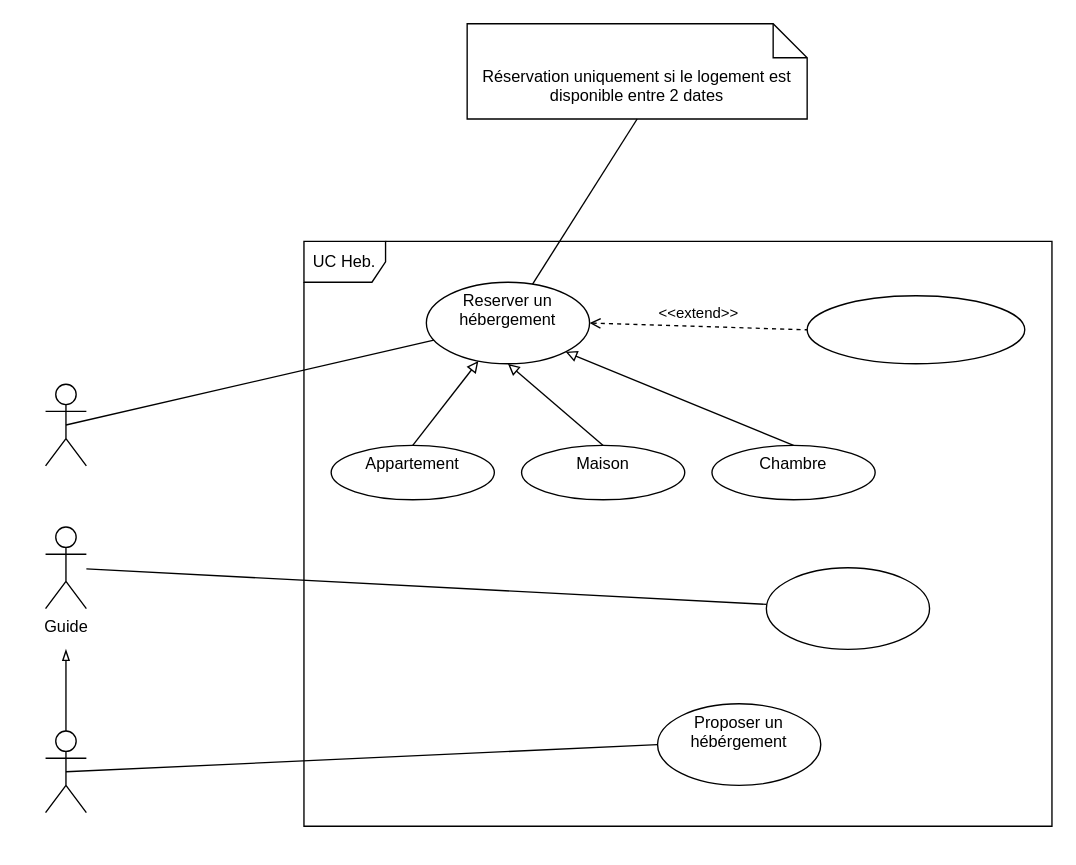
Some shapes in this 1076 by 865 pixel diagram are drawn without their labels. The centre of each missing label's shape, as x and y in pixels:
Demander une visite touristique: [915,329]
Proposer une visite de la ville: [847,607]
Propriétaire: [65,771]
Touriste: [65,424]
